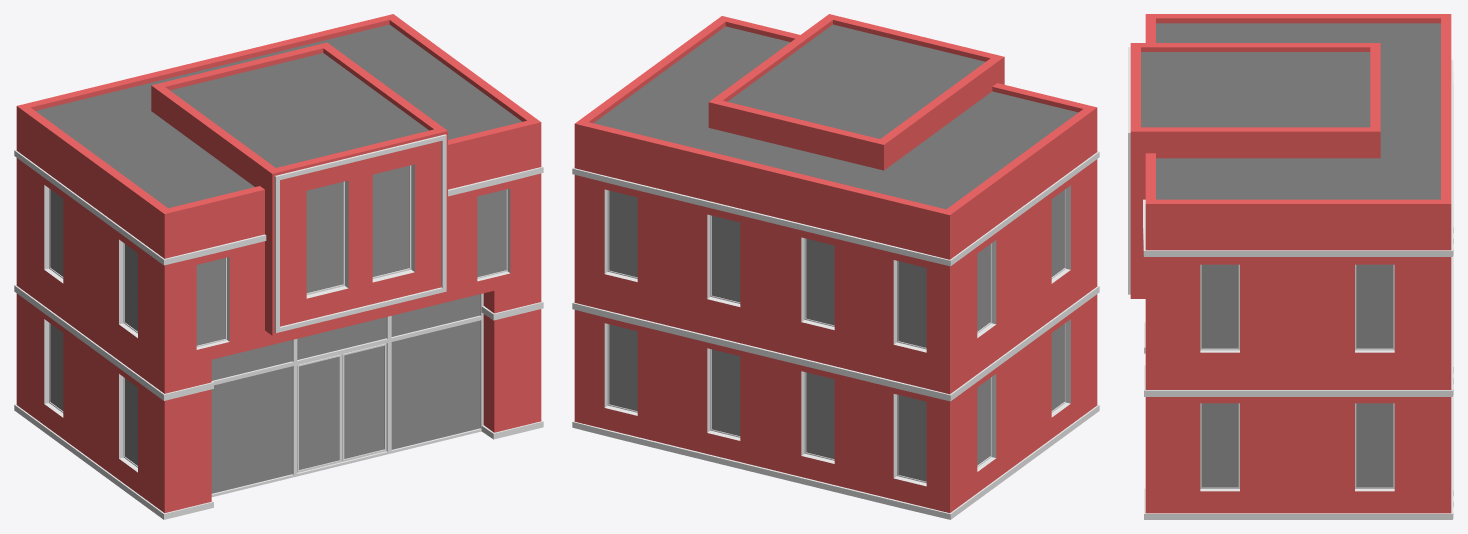
The model's file is SM_House_07_03.FBX.
The picture shows the model from 3 angles, left to right: view 1: azimuth 30°, elevation 25°; view 2: azimuth 150°, elevation 25°; view 3: azimuth 270°, elevation 25°; orthographic projection. The views are drawn at different scales.
Parts seen in each view (by area): view 1: SM_House_07_03; view 2: SM_House_07_03; view 3: SM_House_07_03.
Boxes of the visible parts, x1,y1,x2,y2 form: SM_House_07_03: (14, 14, 543, 519); SM_House_07_03: (572, 14, 1099, 519); SM_House_07_03: (1128, 14, 1453, 519).
Bounding box in the file's own units: 8.06 × 6.61 × 5.79.
Materials: 1 (1 with a texture image).
